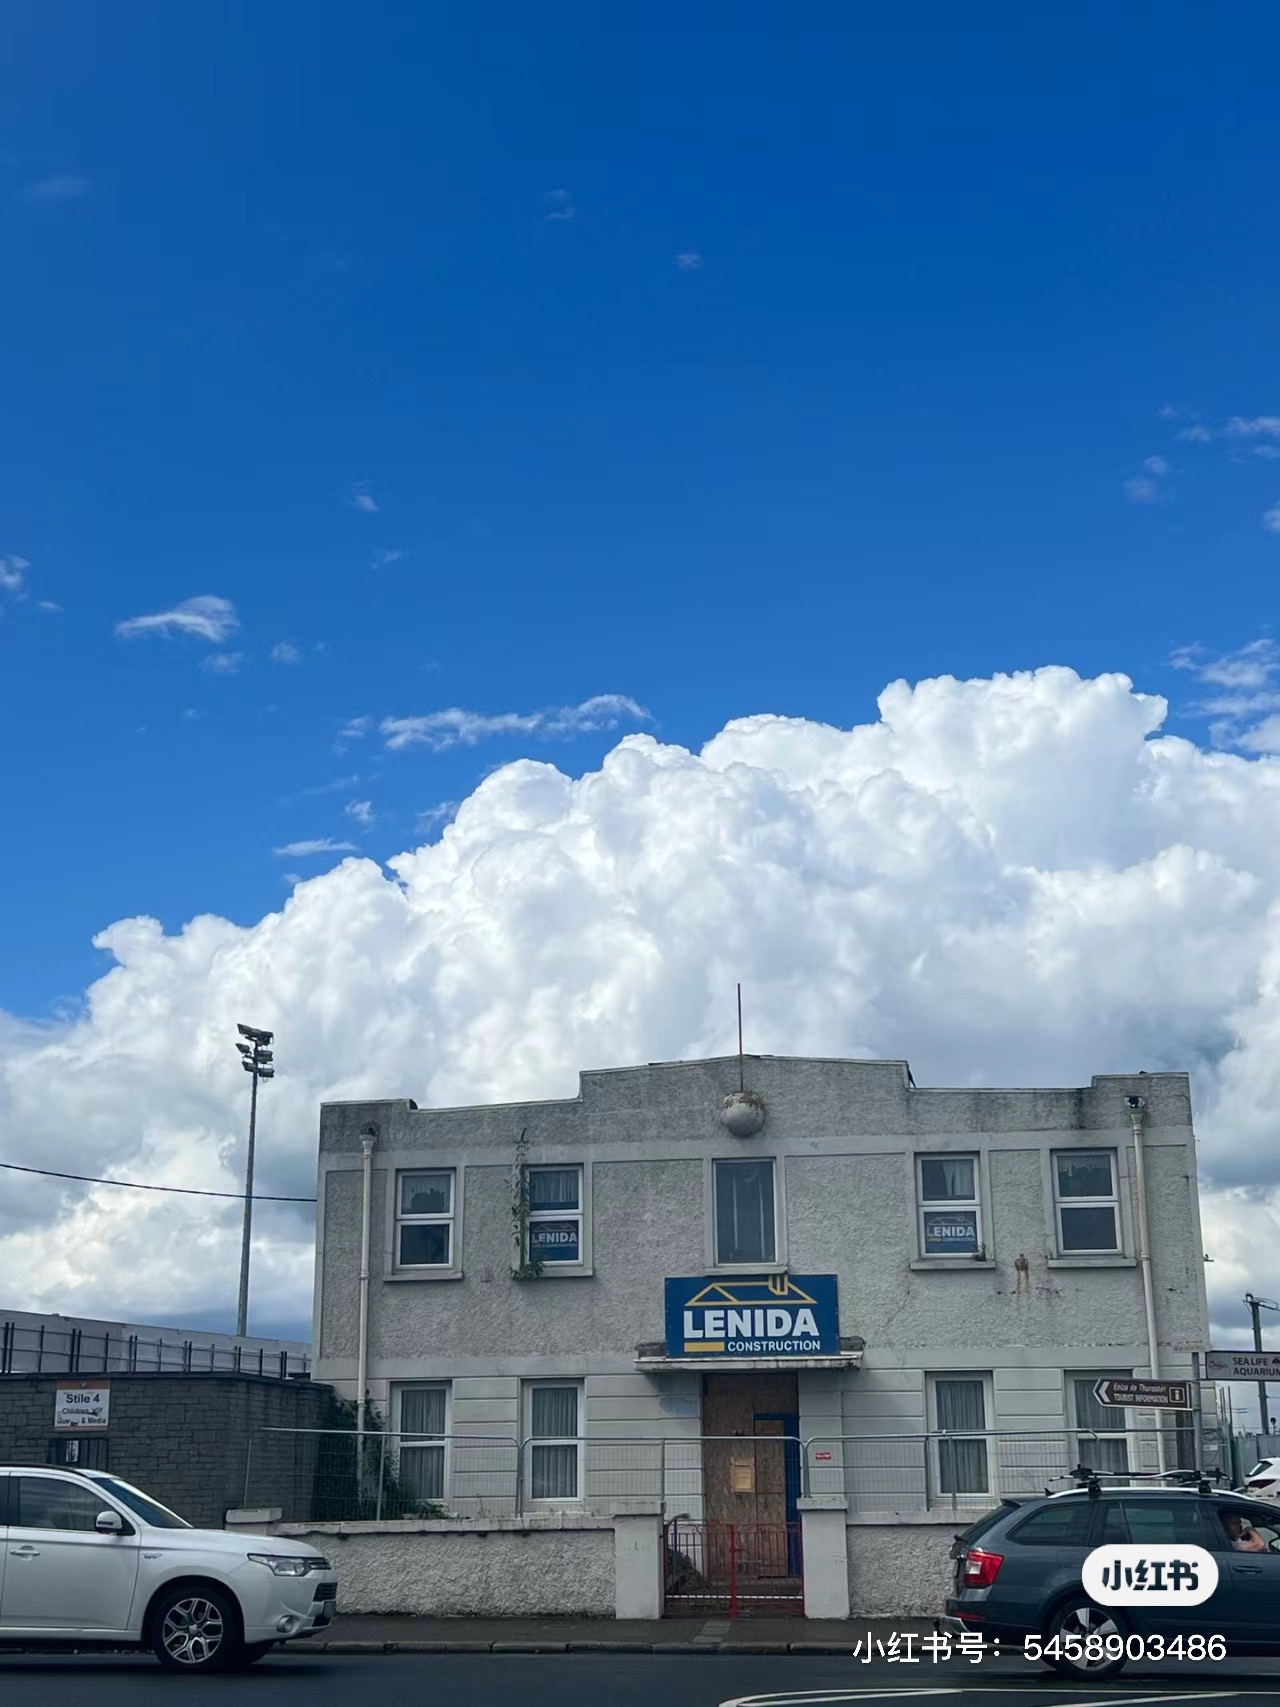Cumulus: (82, 587, 1280, 1075)
